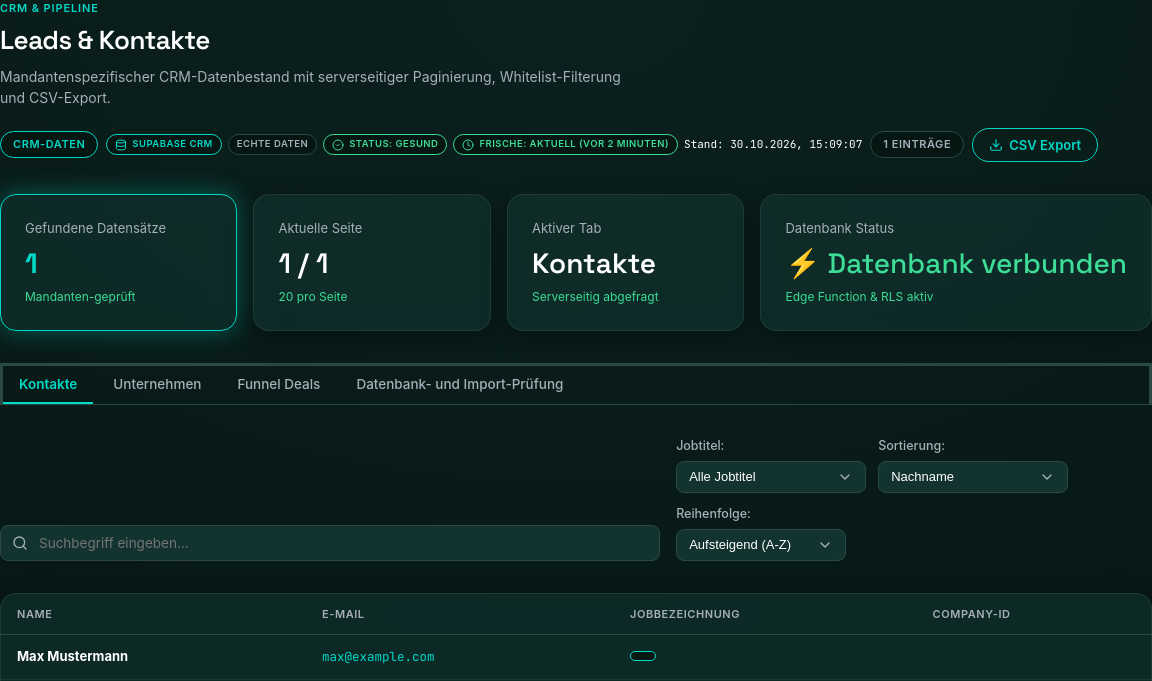
Scenario: LeadsPage Provenance & Tab Switch Reactive Tracking (P1-1) › dynamically switches DataSourceStatus and timestamp when navigating from healthy Contacts to errored Funnel Deals
Expected: the message with test id "data-source-status" shows "Supabase CRM", [132,138,213,149]
Expected: the message with test id "data-source-status" shows "Status: Gesund", [106,134,862,155]
Note: Click "Funnel Deals" tab
Click the tab "Funnel Deals": (279, 385) [222,366,336,404]
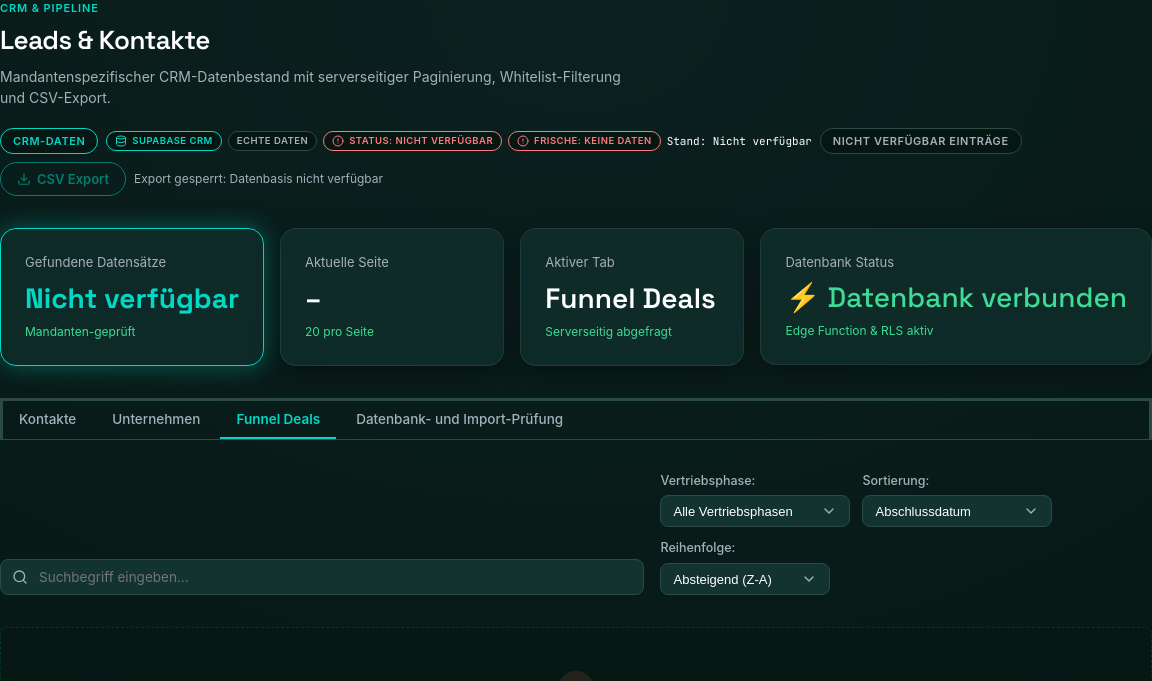
Now the message with test id "data-source-status" shows "Status: Nicht verfügbar", box [106,131,812,151]
Now the message with test id "data-source-status" shows "Frische: Keine Daten", box [534,135,652,146]
Now the message with test id "data-source-status" shows "Stand: Nicht verfügbar", box [106,131,812,151]
Note: Click back to "Kontakte" tab
Click the tab "Kontakte": (48, 420) [3,400,92,438]
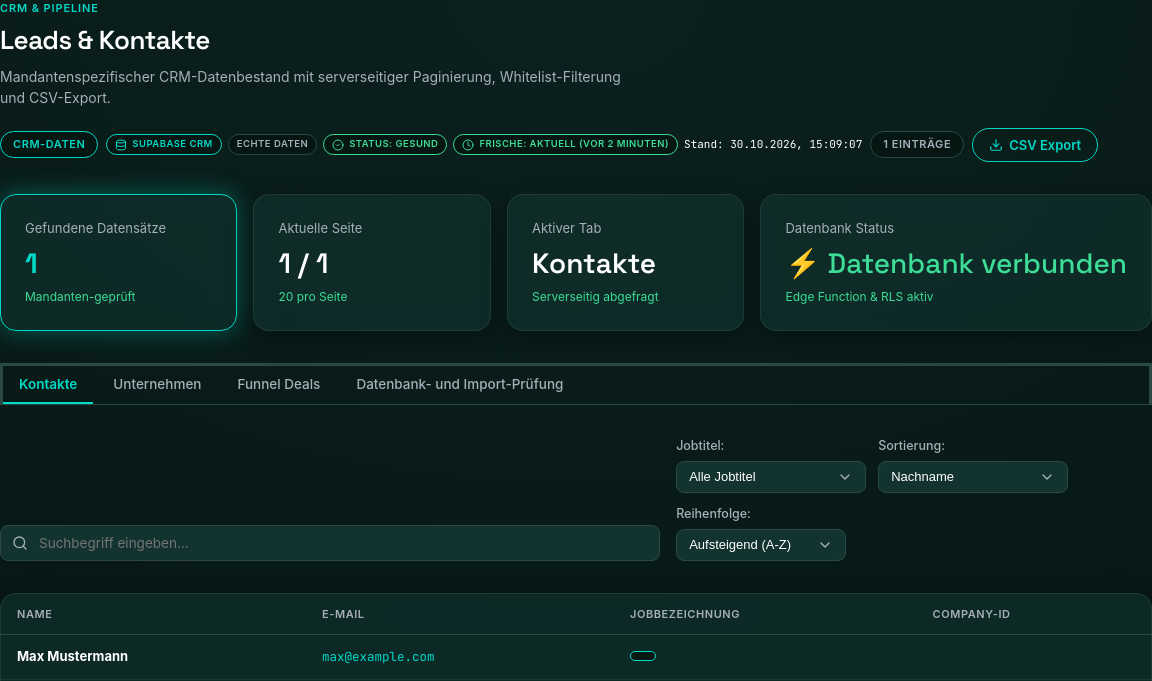
Expected: the message with test id "data-source-status" shows "Supabase CRM", [132,138,213,149]
Now the message with test id "data-source-status" shows "Status: Gesund", box [106,134,862,155]
